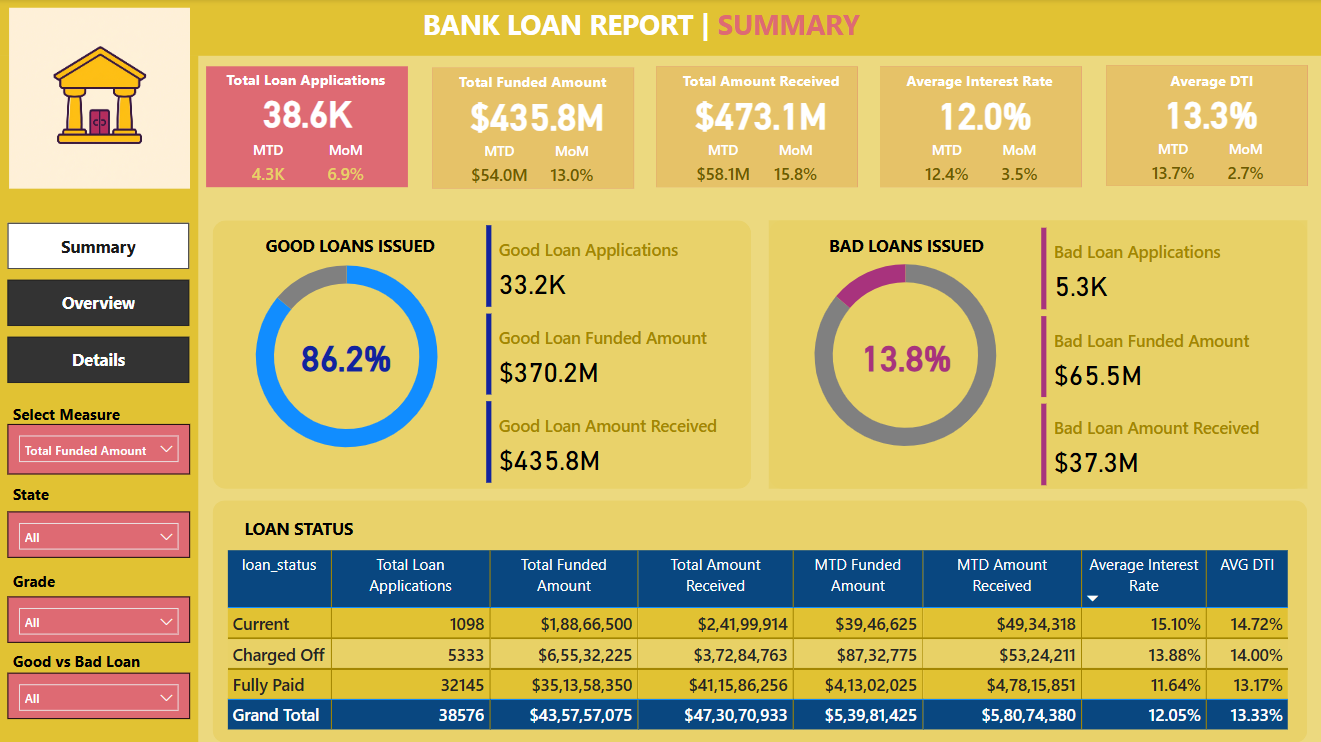

Layout of this report page (visuals, bound fields, positions):
{"tool":"powerbi","page":{"name":"Summary","canvas":[1280,720],"ordinal":0},"visuals":[{"type":"shape","box":[0,0,1280.3,55],"z":0},{"type":"shape","box":[1071.3,64.2,195,117],"z":0,"group":"g5"},{"type":"shape","box":[199.7,65.3,195,117],"z":0,"group":"g1"},{"type":"shape","box":[635.5,65.5,195,117],"z":0,"group":"g3"},{"type":"shape","box":[852.2,65.5,195,117],"z":0,"group":"g4"},{"type":"shape","box":[418.8,66.7,195,117],"z":0,"group":"g2"},{"type":"shape","box":[0,54.9,192,665.5],"z":1000},{"type":"card","fields":{"Values":["bank_loan_data.Total Loan Applications"]},"box":[231.2,81.1,133.2,55.7],"z":1000,"group":"g1"},{"type":"card","fields":{"Values":["bank_loan_data.AVG DTI"]},"box":[1102.4,83.5,140.4,52.1],"z":1000,"group":"g5"},{"type":"card","fields":{"Values":["bank_loan_data.Total Amount Received"]},"box":[666.6,84.8,140.4,52.1],"z":1000,"group":"g3"},{"type":"card","fields":{"Values":["bank_loan_data.Average Interest Rate"]},"box":[883.3,84.8,140.4,52.1],"z":1000,"group":"g4"},{"type":"card","fields":{"Values":["bank_loan_data.Total Funded Amount"]},"box":[449.9,86,140.4,52.1],"z":1000,"group":"g2"},{"type":"textbox","box":[214.2,62.9,180.4,35.1],"z":2000,"group":"g1"},{"type":"textbox","box":[655.7,64.2,180.4,35.1],"z":2000,"group":"g3"},{"type":"textbox","box":[872.4,64.2,180.4,35.1],"z":2000,"group":"g4"},{"type":"textbox","box":[1119.1,64.7,110.2,30.3],"z":2000,"group":"g5"},{"type":"textbox","box":[439,65.4,180.4,35.1],"z":2000,"group":"g2"},{"type":"shape","box":[205.8,214.3,521.7,260.3],"z":2000},{"type":"card","title":"MTD","fields":{"Values":["bank_loan_data.MTD Avg DTI"]},"box":[1102.4,135.6,66.6,52.1],"z":3000,"group":"g5"},{"type":"card","title":"MTD","fields":{"Values":["bank_loan_data.MTD Loan Applications"]},"box":[230.6,136.7,56.9,52.1],"z":3000,"group":"g1"},{"type":"card","title":"MTD","fields":{"Values":["bank_loan_data.MTD Amount Received"]},"box":[666.6,136.8,66.6,52.1],"z":3000,"group":"g3"},{"type":"card","title":"MTD","fields":{"Values":["bank_loan_data.MTD Avg Interest Rate"]},"box":[883.3,136.8,66.6,52.1],"z":3000,"group":"g4"},{"type":"card","title":"MTD","fields":{"Values":["bank_loan_data.MTD Funded Amount"]},"box":[449.9,138,66.6,52.1],"z":3000,"group":"g2"},{"type":"donutChart","fields":{"Category":["bank_loan_data.Good vs Bad Loan"],"Y":["bank_loan_data.Total Loan Applications"]},"box":[210.6,231.2,250.6,230],"z":3000},{"type":"card","title":"MoM","fields":{"Values":["bank_loan_data.MoM Avg DTI"]},"box":[1176,135.6,59.3,52.1],"z":4000,"group":"g5"},{"type":"card","title":"MoM","fields":{"Values":["bank_loan_data.MoM Loan Applications"]},"box":[304.4,136.7,59.3,52.1],"z":4000,"group":"g1"},{"type":"card","title":"MoM","fields":{"Values":["bank_loan_data.MoM Total Amount Received"]},"box":[740.2,136.8,59.3,52.1],"z":4000,"group":"g3"},{"type":"card","title":"MoM","fields":{"Values":["bank_loan_data.MoM Avg Interest Rate"]},"box":[956.9,136.8,59.3,52.1],"z":4000,"group":"g4"},{"type":"card","title":"MoM","fields":{"Values":["bank_loan_data.MoM Funded Amount"]},"box":[523.5,138,59.3,52.1],"z":4000,"group":"g2"},{"type":"card","fields":{"Values":["bank_loan_data.Good Loan Percentage"]},"box":[265.1,319.6,140.4,52.1],"z":4000},{"type":"textbox","box":[244.5,222.7,188.8,35.1],"z":5000},{"type":"textbox","box":[404.3,1.2,472.1,53.3],"z":6000},{"type":"group","id":"g1","title":"Group 1","box":[199.7,62.9,194.9,125.9],"z":7000},{"type":"group","id":"g2","title":"Group 1","box":[418.8,65.4,200.9,124.7],"z":8000},{"type":"group","id":"g3","title":"Group 1","box":[635.5,64.2,200.9,124.7],"z":9000},{"type":"group","id":"g4","title":"Group 1","box":[852.2,64.2,200.9,124.7],"z":10000},{"type":"group","id":"g5","title":"Group 1","box":[1071.3,64.2,194.9,123.5],"z":11000},{"type":"shape","box":[744.5,214.3,521.7,260.3],"z":12000},{"type":"cardVisual","fields":{"Data":["bank_loan_data.Good Loan Applications","bank_loan_data.Good Loan Funded Amount","bank_loan_data.Good Loan Amount Received"]},"box":[466,214.3,276,259],"z":13000},{"type":"donutChart","fields":{"Category":["bank_loan_data.Good vs Bad Loan"],"Y":["bank_loan_data.Total Loan Applications"]},"box":[751.7,230,250.6,230],"z":14000},{"type":"textbox","box":[783.2,222.7,188.8,35.1],"z":15000},{"type":"card","fields":{"Values":["bank_loan_data.Bad Loan Percentage"]},"box":[807.4,319.6,140.4,52.1],"z":16000},{"type":"cardVisual","fields":{"Data":["bank_loan_data.Bad Loan Applications","bank_loan_data.Bad Loan Funded Amount","bank_loan_data.Bad Loan Amount Received"]},"box":[1003.5,216.7,276,259],"z":17000},{"type":"shape","box":[205.8,485.4,1060.4,234.8],"z":18000},{"type":"tableEx","fields":{"Values":["bank_loan_data.loan_status","bank_loan_data.Total Loan Applications","bank_loan_data.Total Funded Amount","bank_loan_data.Total Amount Received","bank_loan_data.MTD Funded Amount","bank_loan_data.MTD Amount Received","bank_loan_data.Average Interest Rate","bank_loan_data.AVG DTI"]},"box":[214.3,529,1044.7,191.3],"z":19000},{"type":"textbox","box":[214.3,496.3,150.1,35.1],"z":20000},{"type":"slicer","fields":{"Values":["bank_loan_data.Good vs Bad Loan"]},"box":[7.3,652.5,176.7,44.8],"z":21000},{"type":"textbox","box":[7.3,625.8,159.8,37.5],"z":22000},{"type":"slicer","fields":{"Values":["bank_loan_data.address_state"]},"box":[7.3,496.3,176.7,44.8],"z":23000},{"type":"textbox","box":[7.3,464.8,53.3,41.2],"z":24000},{"type":"slicer","fields":{"Values":["bank_loan_data.grade"]},"box":[7.3,578.6,176.7,44.8],"z":25000},{"type":"textbox","box":[7.3,548.4,79.9,42.4],"z":26000},{"type":"slicer","fields":{"Values":["Select Measure.Select Measure"]},"box":[7.3,411.6,176.7,48.4],"z":27000},{"type":"textbox","box":[7.3,387.4,142.8,37.5],"z":28000},{"type":"pageNavigator","box":[7.3,216.7,176.7,157.4],"z":29000},{"type":"image","box":[0,8.5,192.5,175.5],"z":30000}]}

Visuals, with their boxes in screenshot pixels (x1, y1, x2, y2), scaled from the page's 1280x720 canvas onto the 1321x742 screenshot:
shape: locate(0, 0, 1320, 57)
shape: locate(1106, 66, 1307, 187)
shape: locate(206, 67, 407, 188)
shape: locate(656, 68, 857, 188)
shape: locate(879, 68, 1081, 188)
shape: locate(432, 69, 633, 189)
shape: locate(0, 57, 198, 741)
card - bank_loan_data.Total Loan Applications: locate(239, 84, 376, 141)
card - bank_loan_data.AVG DTI: locate(1138, 86, 1283, 140)
card - bank_loan_data.Total Amount Received: locate(688, 87, 833, 141)
card - bank_loan_data.Average Interest Rate: locate(912, 87, 1056, 141)
card - bank_loan_data.Total Funded Amount: locate(464, 89, 609, 142)
textbox: locate(221, 65, 407, 101)
textbox: locate(677, 66, 863, 102)
textbox: locate(900, 66, 1087, 102)
textbox: locate(1155, 67, 1269, 98)
textbox: locate(453, 67, 639, 104)
shape: locate(212, 221, 751, 489)
"MTD" card: locate(1138, 140, 1206, 193)
"MTD" card: locate(238, 141, 297, 195)
"MTD" card: locate(688, 141, 757, 195)
"MTD" card: locate(912, 141, 980, 195)
"MTD" card: locate(464, 142, 533, 196)
donutChart - bank_loan_data.Good vs Bad Loan x bank_loan_data.Total Loan Applications: locate(217, 238, 476, 475)
"MoM" card: locate(1214, 140, 1275, 193)
"MoM" card: locate(314, 141, 375, 195)
"MoM" card: locate(764, 141, 825, 195)
"MoM" card: locate(988, 141, 1049, 195)
"MoM" card: locate(540, 142, 601, 196)
card - bank_loan_data.Good Loan Percentage: locate(274, 329, 418, 383)
textbox: locate(252, 230, 447, 266)
textbox: locate(417, 1, 904, 56)
"Group 1" group: locate(206, 65, 407, 195)
"Group 1" group: locate(432, 67, 640, 196)
"Group 1" group: locate(656, 66, 863, 195)
"Group 1" group: locate(879, 66, 1087, 195)
"Group 1" group: locate(1106, 66, 1307, 193)
shape: locate(768, 221, 1307, 489)
cardVisual - bank_loan_data.Good Loan Applications x bank_loan_data.Good Loan Funded Amount: locate(481, 221, 766, 488)
donutChart - bank_loan_data.Good vs Bad Loan x bank_loan_data.Total Loan Applications: locate(776, 237, 1034, 474)
textbox: locate(808, 230, 1003, 266)
card - bank_loan_data.Bad Loan Percentage: locate(833, 329, 978, 383)
cardVisual - bank_loan_data.Bad Loan Applications x bank_loan_data.Bad Loan Funded Amount: locate(1036, 223, 1320, 490)
shape: locate(212, 500, 1307, 741)
tableEx - bank_loan_data.loan_status x bank_loan_data.Total Loan Applications: locate(221, 545, 1299, 741)
textbox: locate(221, 511, 376, 548)
slicer - bank_loan_data.Good vs Bad Loan: locate(8, 672, 190, 719)
textbox: locate(8, 645, 172, 684)
slicer - bank_loan_data.address_state: locate(8, 511, 190, 558)
textbox: locate(8, 479, 63, 521)
slicer - bank_loan_data.grade: locate(8, 596, 190, 642)
textbox: locate(8, 565, 90, 609)
slicer - Select Measure.Select Measure: locate(8, 424, 190, 474)
textbox: locate(8, 399, 155, 438)
pageNavigator: locate(8, 223, 190, 386)
image: locate(0, 9, 199, 190)
